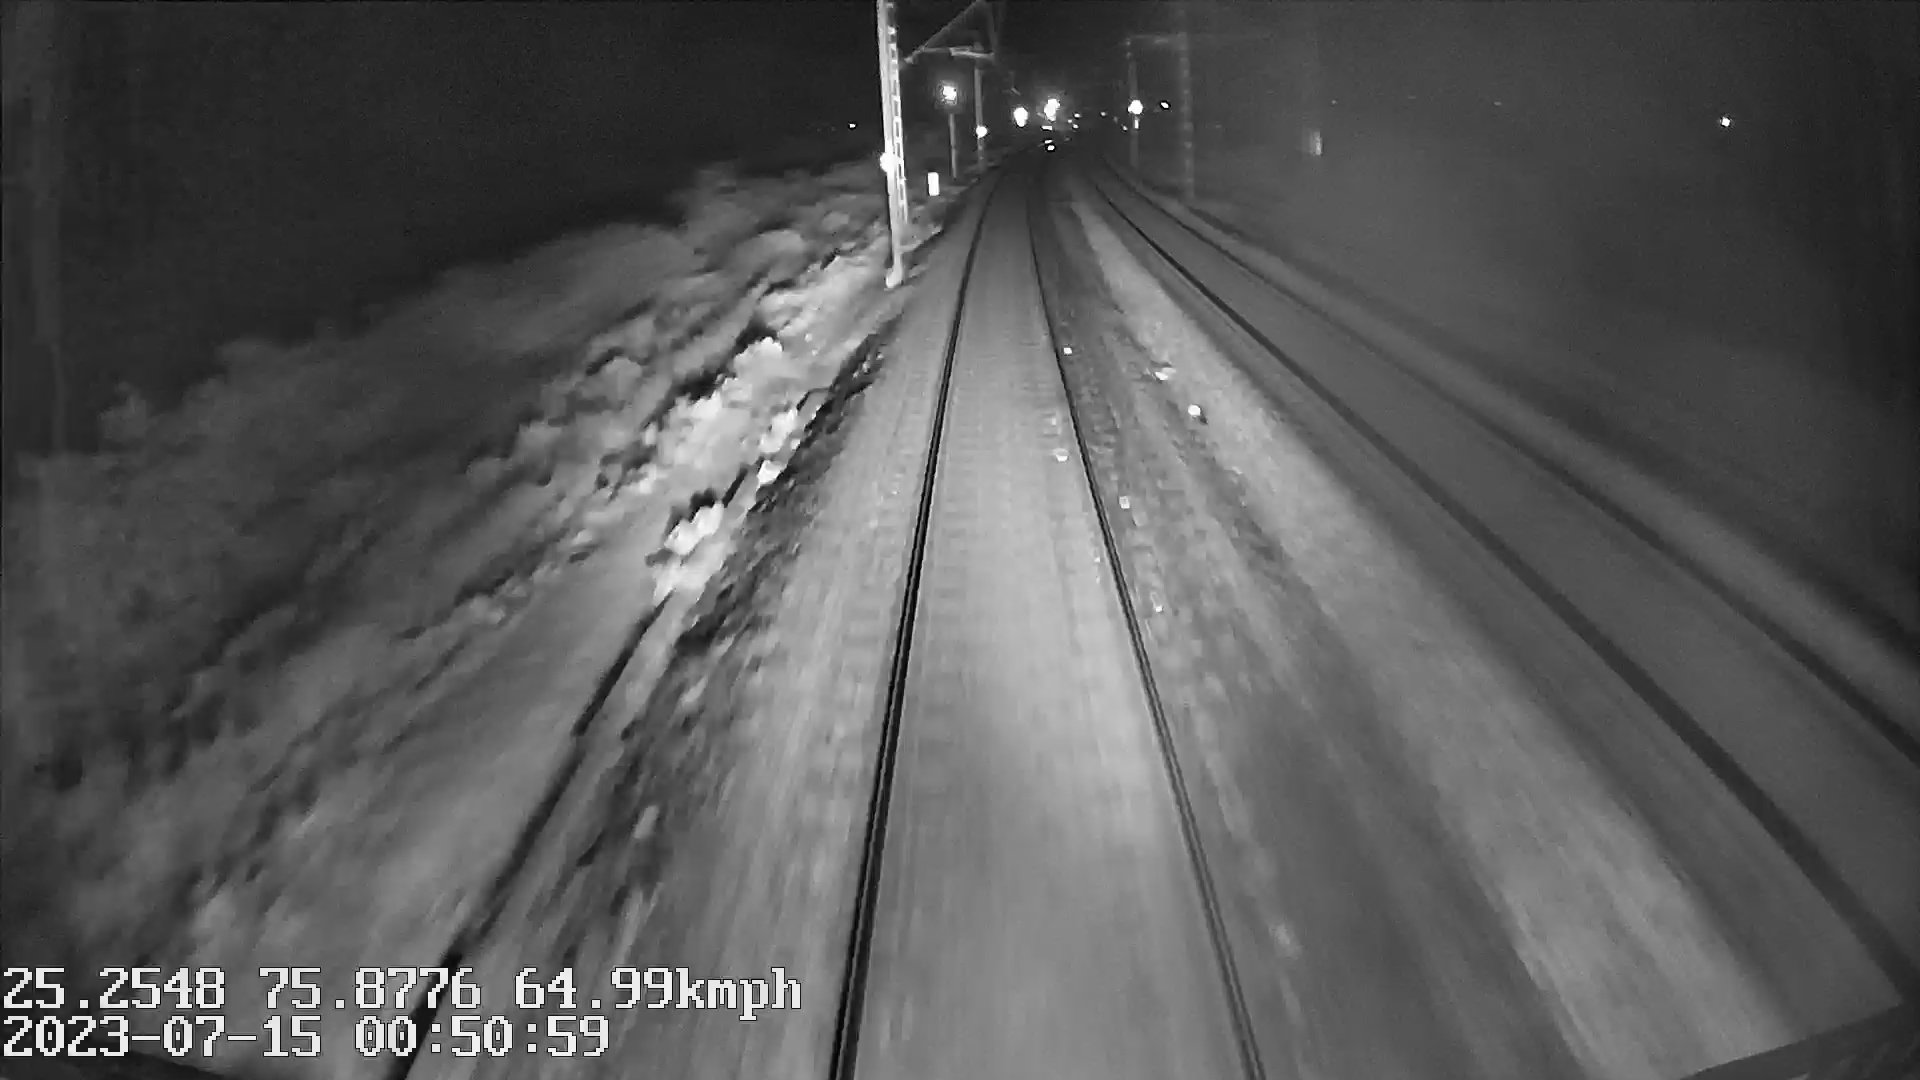track1: (851, 211, 1246, 1033)
track2: (1114, 191, 1915, 869)
